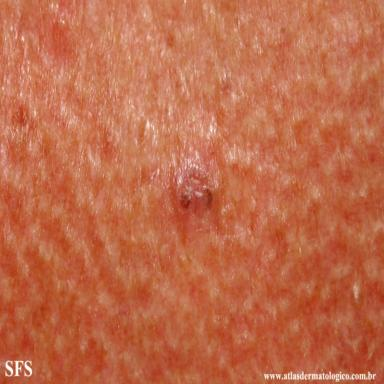basal-cell-carcinoma: (169, 159, 213, 219)
